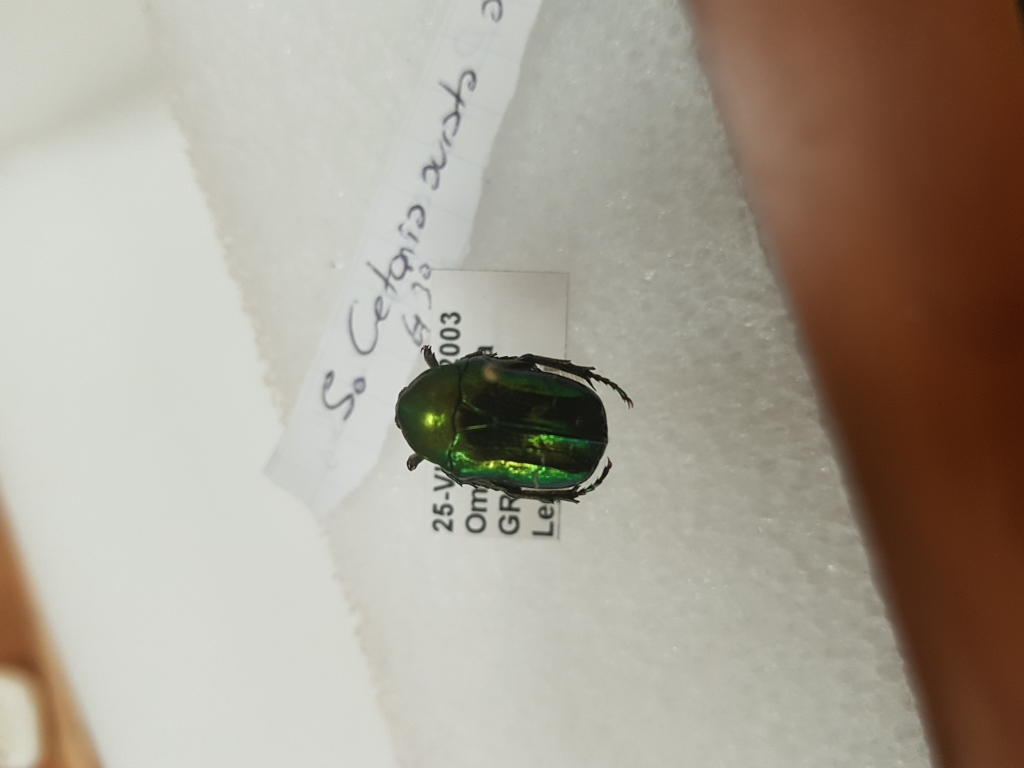Cetonia_aurata: (393, 338, 636, 506)
